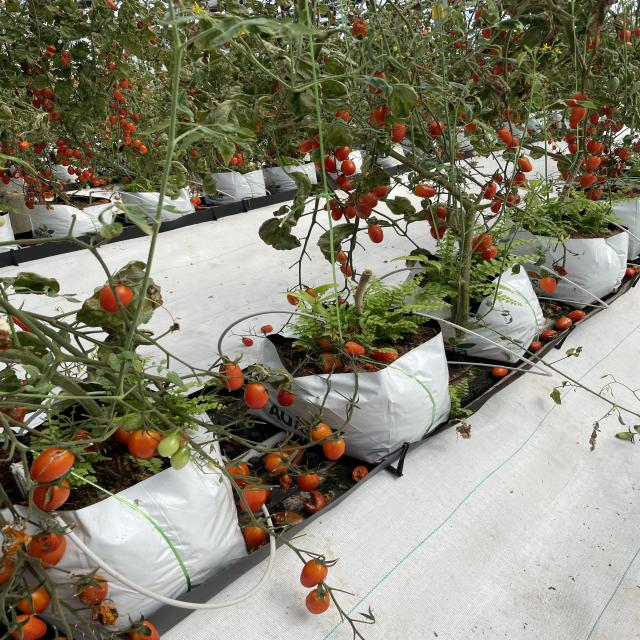Soilbag: (0, 383, 254, 640), (248, 312, 465, 461), (395, 251, 549, 360)
